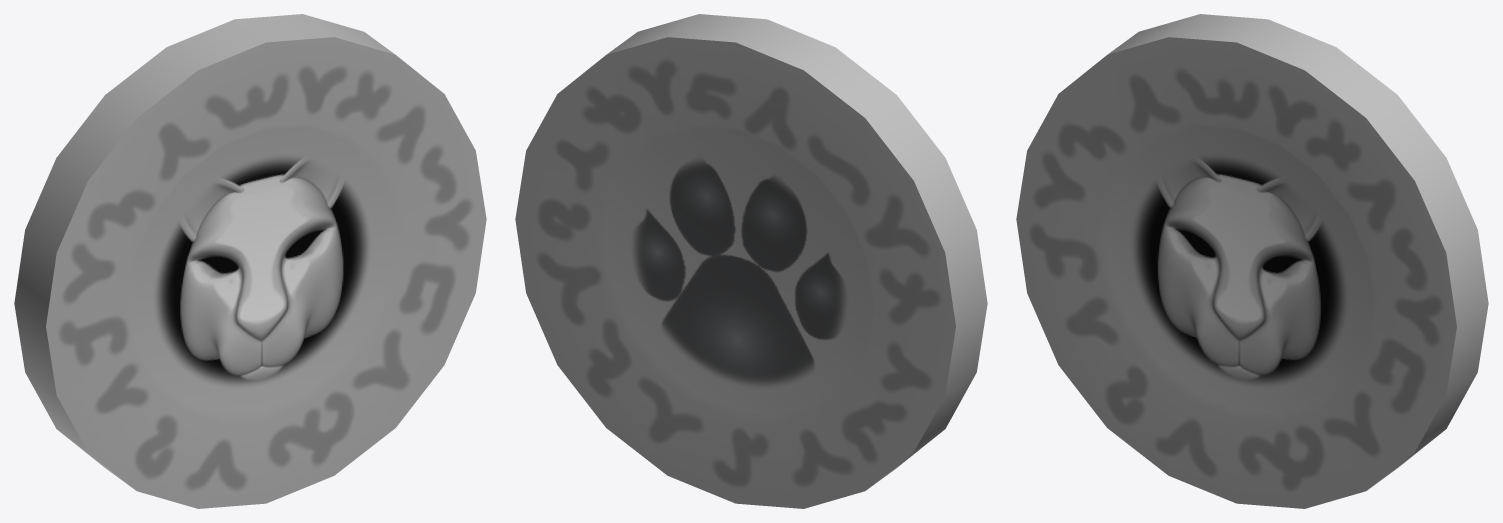
The model's file is coin_silver02.fbx.
3 renders of one model, left to right at view 1: azimuth 30°, elevation 25°; view 2: azimuth 150°, elevation 25°; view 3: azimuth 330°, elevation 25°, orthographic.
Visible parts, largest first — view 1: coin_silver; view 2: coin_silver; view 3: coin_silver.
Part boxes in pixels (box(x1,y1,x2,y2)): coin_silver: box(14, 14, 486, 508); coin_silver: box(515, 14, 987, 508); coin_silver: box(1016, 14, 1488, 508).
Size of the model in its own units: 0.9052 by 0.9052 by 0.1124.
1 material, 1 textured.
